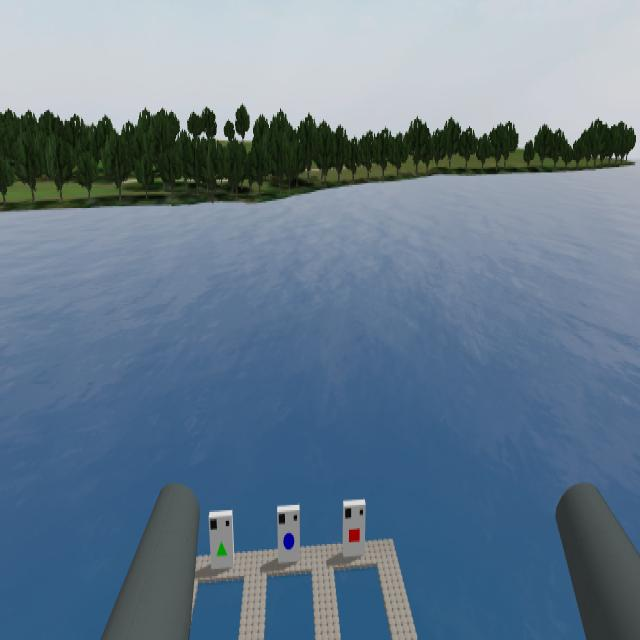dock: (208, 513, 234, 572), (276, 502, 302, 555), (341, 502, 366, 551)
